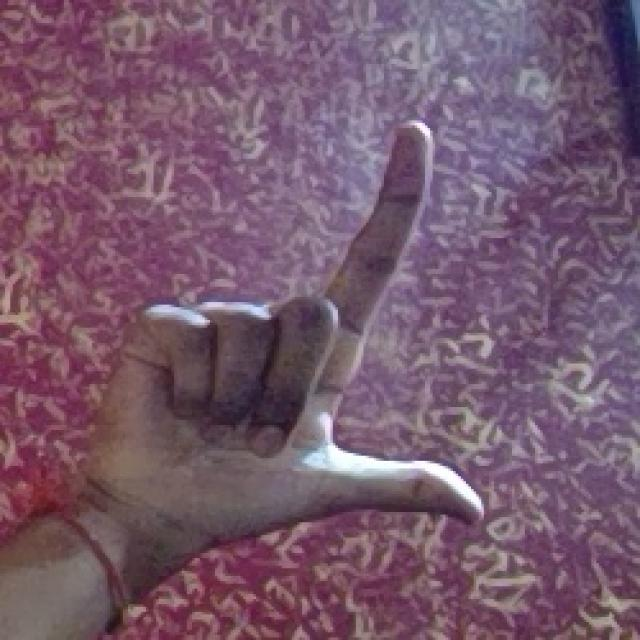Alphabet-L: (110, 105, 503, 558)
